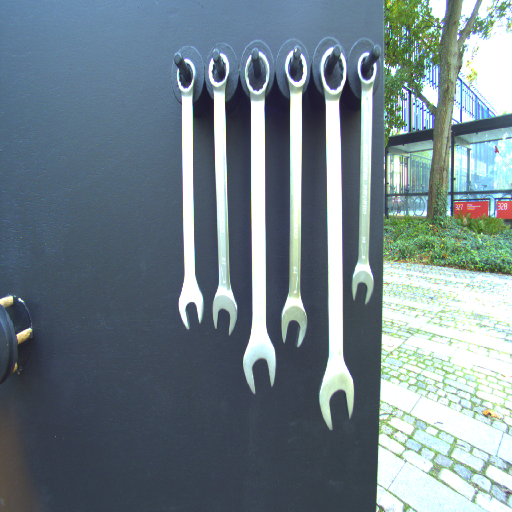bottom: (316, 365, 357, 433), (242, 334, 277, 396), (279, 292, 309, 349), (210, 286, 240, 341), (176, 279, 206, 332), (349, 260, 374, 307)
top: (319, 43, 347, 104), (242, 48, 273, 101), (283, 43, 309, 93), (356, 49, 382, 89), (206, 51, 231, 91), (174, 55, 196, 97)
